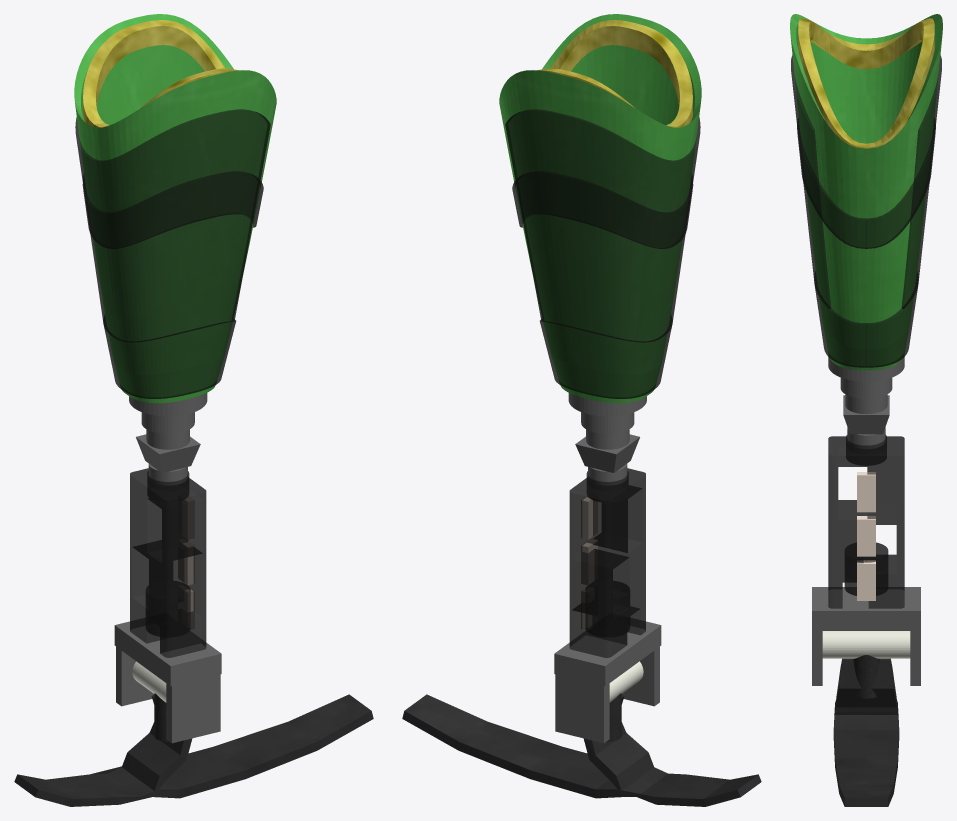
The model's file is Healthcare_Prosthetic_limb__0000.glb.
3 views of the same model, side by side, from view 1: azimuth 30°, elevation 25°; view 2: azimuth 150°, elevation 25°; view 3: azimuth 270°, elevation 25° (orthographic). The views are drawn at different scales.
Visible parts, largest first — view 1: socket::socket_shell, socket::carbon_side_wrap, foot::foot_body, pylon::skeletal_shin_frame, socket::carbon_mid_band, socket::carbon_distal_cup, socket::liner_edge, pylon::fork_bridge, pylon::fork_plate_1, pylon::round_shin_tube, pylon::adapter_pyramid, pylon::fork_plate_0 (+5 smaller); view 2: socket::socket_shell, socket::carbon_side_wrap, foot::foot_body, pylon::skeletal_shin_frame, socket::carbon_mid_band, socket::carbon_distal_cup, socket::liner_edge, pylon::fork_bridge, pylon::fork_plate_0, pylon::round_shin_tube, pylon::adapter_pyramid, pylon::fork_plate_1 (+6 smaller); view 3: socket::socket_shell, pylon::skeletal_shin_frame, foot::foot_body, socket::carbon_side_wrap, socket::liner_edge, socket::carbon_distal_cup, socket::carbon_mid_band, pylon::fork_bridge, foot::ankle_pin, pylon::round_shin_tube, pylon::adapter_pyramid, pylon::adapter_flange (+10 smaller).
Boxes of the visible parts, bbox=[...] form: socket::socket_shell: bbox=[74, 14, 276, 403]; socket::carbon_side_wrap: bbox=[75, 109, 270, 342]; foot::foot_body: bbox=[14, 694, 373, 806]; pylon::skeletal_shin_frame: bbox=[130, 468, 206, 657]; socket::carbon_mid_band: bbox=[82, 171, 263, 248]; socket::carbon_distal_cup: bbox=[103, 317, 236, 398]; socket::liner_edge: bbox=[83, 20, 238, 127]; pylon::fork_bridge: bbox=[114, 618, 221, 686]; pylon::fork_plate_1: bbox=[166, 674, 220, 743]; pylon::round_shin_tube: bbox=[145, 581, 190, 636]; pylon::adapter_pyramid: bbox=[136, 434, 200, 472]; pylon::fork_plate_0: bbox=[116, 646, 154, 706]; socket::socket_shell: bbox=[499, 14, 701, 403]; socket::carbon_side_wrap: bbox=[505, 109, 700, 342]; foot::foot_body: bbox=[402, 694, 761, 806]; pylon::skeletal_shin_frame: bbox=[569, 468, 645, 657]; socket::carbon_mid_band: bbox=[512, 171, 693, 248]; socket::carbon_distal_cup: bbox=[539, 315, 672, 398]; socket::liner_edge: bbox=[537, 20, 692, 127]; pylon::fork_bridge: bbox=[554, 618, 661, 686]; pylon::fork_plate_0: bbox=[555, 674, 609, 743]; pylon::round_shin_tube: bbox=[585, 581, 630, 636]; pylon::adapter_pyramid: bbox=[575, 434, 639, 472]; pylon::fork_plate_1: bbox=[621, 646, 659, 706]; socket::socket_shell: bbox=[790, 14, 942, 370]; pylon::skeletal_shin_frame: bbox=[828, 436, 904, 608]; foot::foot_body: bbox=[833, 658, 899, 806]; socket::carbon_side_wrap: bbox=[791, 55, 941, 309]; socket::liner_edge: bbox=[798, 18, 934, 148]; socket::carbon_distal_cup: bbox=[814, 272, 918, 367]; socket::carbon_mid_band: bbox=[797, 118, 935, 248]; pylon::fork_bridge: bbox=[812, 587, 920, 630]; foot::ankle_pin: bbox=[822, 631, 910, 658]; pylon::round_shin_tube: bbox=[844, 542, 888, 595]; pylon::adapter_pyramid: bbox=[843, 395, 889, 434]; pylon::adapter_flange: bbox=[828, 357, 904, 381].
Size of the model in its own units: 0.2781 by 0.58 by 0.112.
Materials: 7 (3 with a texture image).
